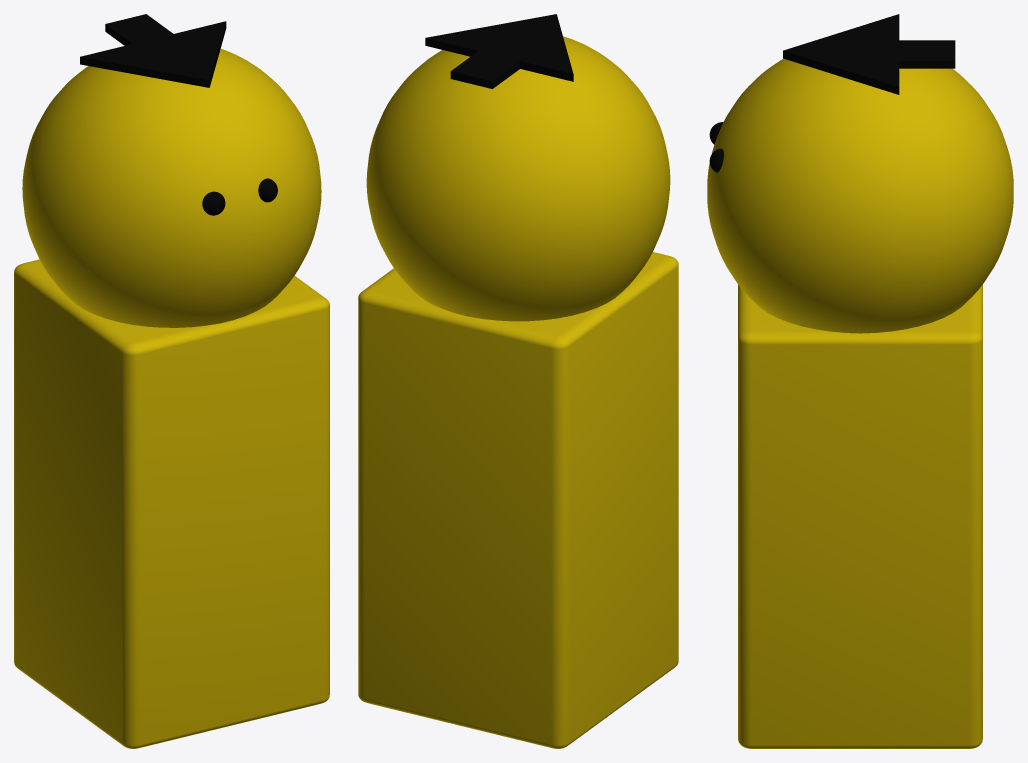
3 views of the same model, side by side, from view 1: azimuth 30°, elevation 25°; view 2: azimuth 150°, elevation 25°; view 3: azimuth 270°, elevation 25° (orthographic). The views are drawn at different scales.
Visible parts, largest first — view 1: Curve.004_Curve.009_Material.003, Curve.004_Curve.009_SVGMat; view 2: Curve.004_Curve.009_Material.003, Curve.004_Curve.009_SVGMat; view 3: Curve.004_Curve.009_Material.003, Curve.004_Curve.009_SVGMat.
Boxes of the visible parts, x1,y1,x2,y2 form: Curve.004_Curve.009_Material.003: (14,49,329,748); Curve.004_Curve.009_SVGMat: (80,14,277,215); Curve.004_Curve.009_Material.003: (358,36,678,748); Curve.004_Curve.009_SVGMat: (425,14,573,88); Curve.004_Curve.009_Material.003: (707,58,1013,748); Curve.004_Curve.009_SVGMat: (709,14,955,172).
Size of the model in its own units: 0.2062 by 0.4815 by 0.2057.
